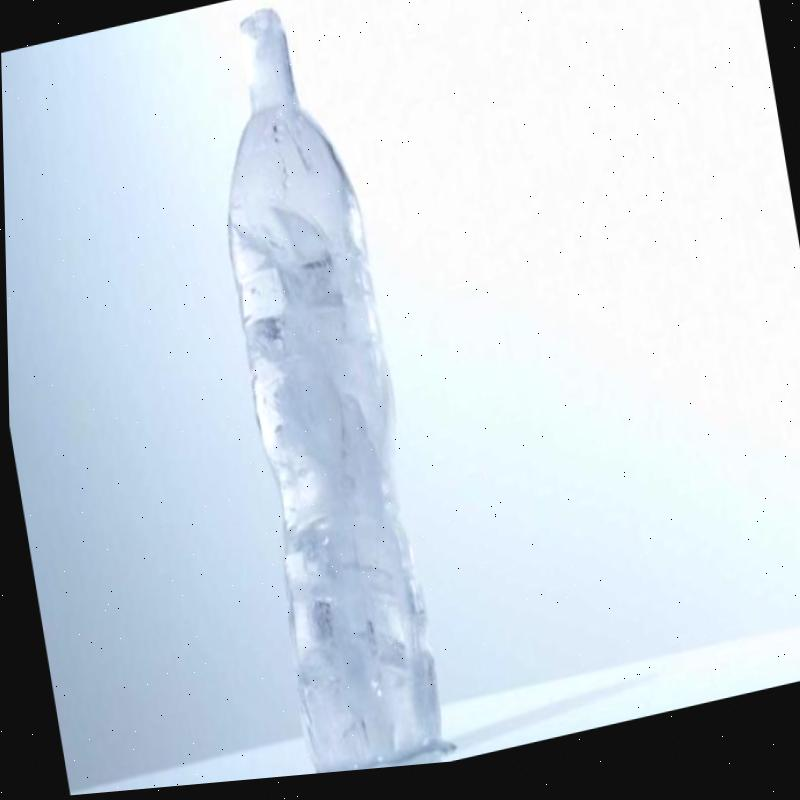botella: (186, 0, 449, 787)
